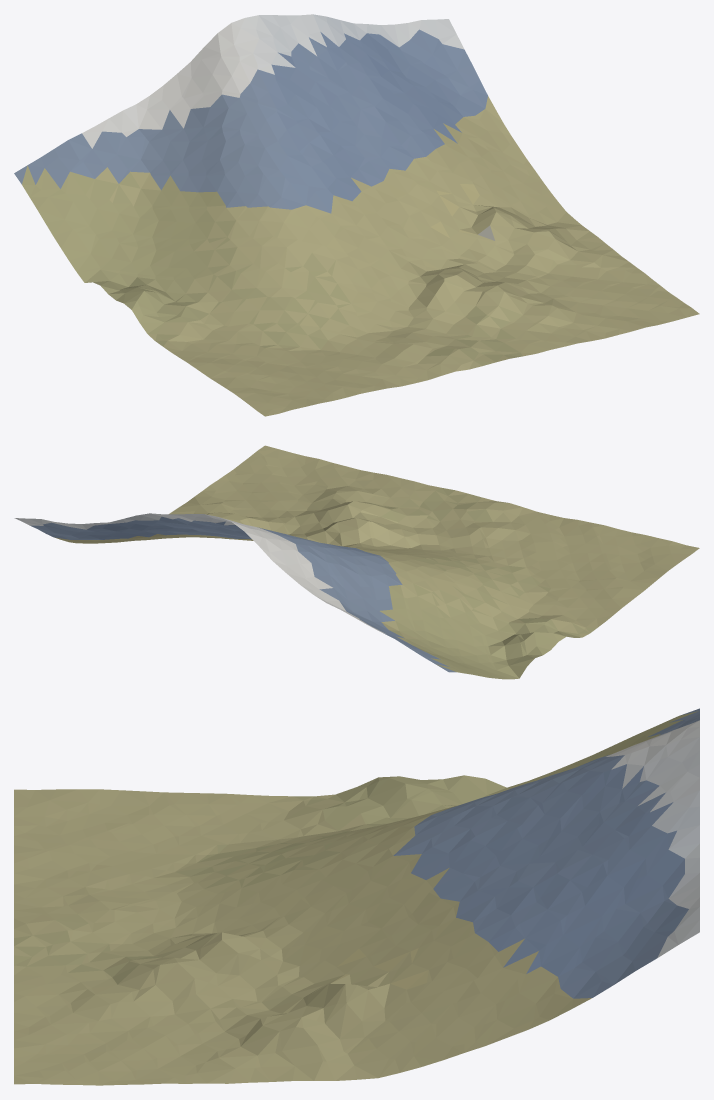
Rendered from Ground_5_-3.glb.
The picture shows the model from 3 angles, top to bottom: view 1: azimuth 30°, elevation 25°; view 2: azimuth 150°, elevation 25°; view 3: azimuth 270°, elevation 25°; orthographic projection. The views are drawn at different scales.
Parts seen in each view (by area): view 1: Ground_5_-3; view 2: Ground_5_-3; view 3: Ground_5_-3.
Part boxes in pixels (x1,y1,x2,y2): Ground_5_-3: [14, 14, 699, 416]; Ground_5_-3: [14, 445, 699, 679]; Ground_5_-3: [14, 708, 699, 1085].
Size of the model in its own units: 768 by 276 by 768.
